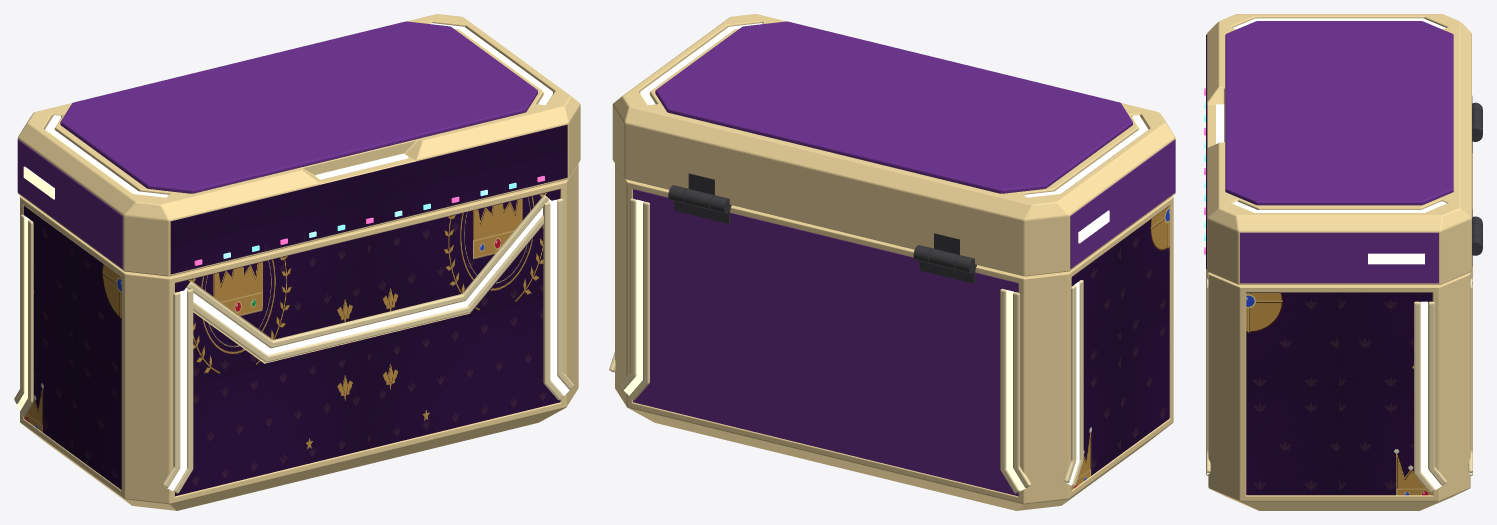
File: kings.glb
The picture shows the model from 3 angles, left to right: view 1: azimuth 30°, elevation 25°; view 2: azimuth 150°, elevation 25°; view 3: azimuth 270°, elevation 25°; orthographic projection. The views are drawn at different scales.
Visible parts, largest first — view 1: PlateFB, LidTopPanel, BodyCore, LidBand, LidFrontPlate, PlateSide, LidSidePlate, Rail_5, Rail_4, LedPath_3, Rail_16, LedPath_15 (+9 smaller); view 2: PlateFB.001, LidTopPanel, LidBand, BodyCore, PlateSide, LidSidePlate, Rail_10, Rail_20, LedPath_9, LedPath_18, Rail_11, Rail_19 (+5 smaller); view 3: LidTopPanel, PlateSide.001, BodyCore, LidBand, LidSidePlate.001, LedPath_21, Rail_22, Rail_23, LedPath_27, LedPath_30, LedPath_26, Rail_17 (+2 smaller).
Part boxes in pixels (left/top/right/bottom): PlateFB: left=175, top=189, right=560, bottom=496; LidTopPanel: left=60, top=21, right=537, bottom=193; BodyCore: left=20, top=163, right=578, bottom=510; LidBand: left=17, top=14, right=580, bottom=276; LidFrontPlate: left=170, top=125, right=567, bottom=274; PlateSide: left=23, top=206, right=121, bottom=489; LidSidePlate: left=17, top=139, right=122, bottom=268; Rail_5: left=186, top=195, right=548, bottom=348; Rail_4: left=193, top=215, right=543, bottom=362; LedPath_3: left=184, top=199, right=550, bottom=354; Rail_16: left=543, top=201, right=563, bottom=400; LedPath_15: left=549, top=199, right=569, bottom=395; PlateFB.001: left=633, top=189, right=1018, bottom=496; LidTopPanel: left=655, top=21, right=1132, bottom=193; LidBand: left=612, top=14, right=1175, bottom=276; BodyCore: left=615, top=164, right=1173, bottom=510; PlateSide: left=1071, top=205, right=1169, bottom=489; LidSidePlate: left=1070, top=139, right=1175, bottom=268; Rail_10: left=1000, top=288, right=1019, bottom=493; Rail_20: left=629, top=201, right=649, bottom=400; LedPath_9: left=1006, top=290, right=1025, bottom=491; LedPath_18: left=624, top=199, right=643, bottom=395; Rail_11: left=1013, top=292, right=1031, bottom=487; Rail_19: left=619, top=198, right=636, bottom=389; LidTopPanel: left=1225, top=21, right=1453, bottom=205; PlateSide.001: left=1246, top=292, right=1432, bottom=495; BodyCore: left=1208, top=272, right=1470, bottom=510; LidBand: left=1207, top=14, right=1471, bottom=284; LidSidePlate.001: left=1240, top=232, right=1438, bottom=283; LedPath_21: left=1420, top=301, right=1441, bottom=489; Rail_22: left=1414, top=301, right=1435, bottom=493; Rail_23: left=1428, top=301, right=1446, bottom=485; LedPath_27: left=1232, top=201, right=1446, bottom=212; LedPath_30: left=1368, top=253, right=1424, bottom=264; LedPath_26: left=1233, top=18, right=1445, bottom=29; Rail_17: left=1206, top=284, right=1210, bottom=473.
Bounding box in the file's own units: 1.78 × 1.17 × 0.978.
Materials: 13 (3 with a texture image).
